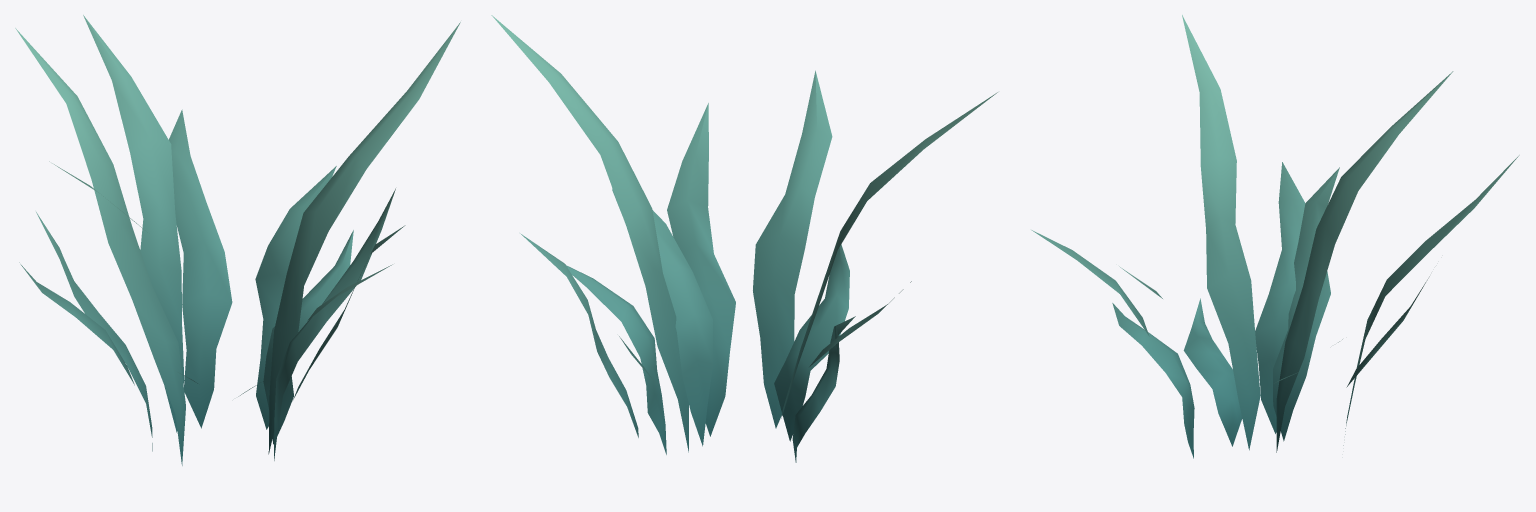
Rendered from sea_grass_low.glb.
The picture shows the model from 3 angles, left to right: view 1: azimuth 30°, elevation 25°; view 2: azimuth 150°, elevation 25°; view 3: azimuth 270°, elevation 25°; orthographic projection. The views are drawn at different scales.
Visible parts, largest first — view 1: world; view 2: world; view 3: world.
Boxes of the visible parts, x1,y1,x2,y2 form: world: (15, 15, 460, 465); world: (491, 15, 997, 462); world: (1031, 15, 1519, 458).
Size of the model in its own units: 1.19 by 0.971 by 1.22.
